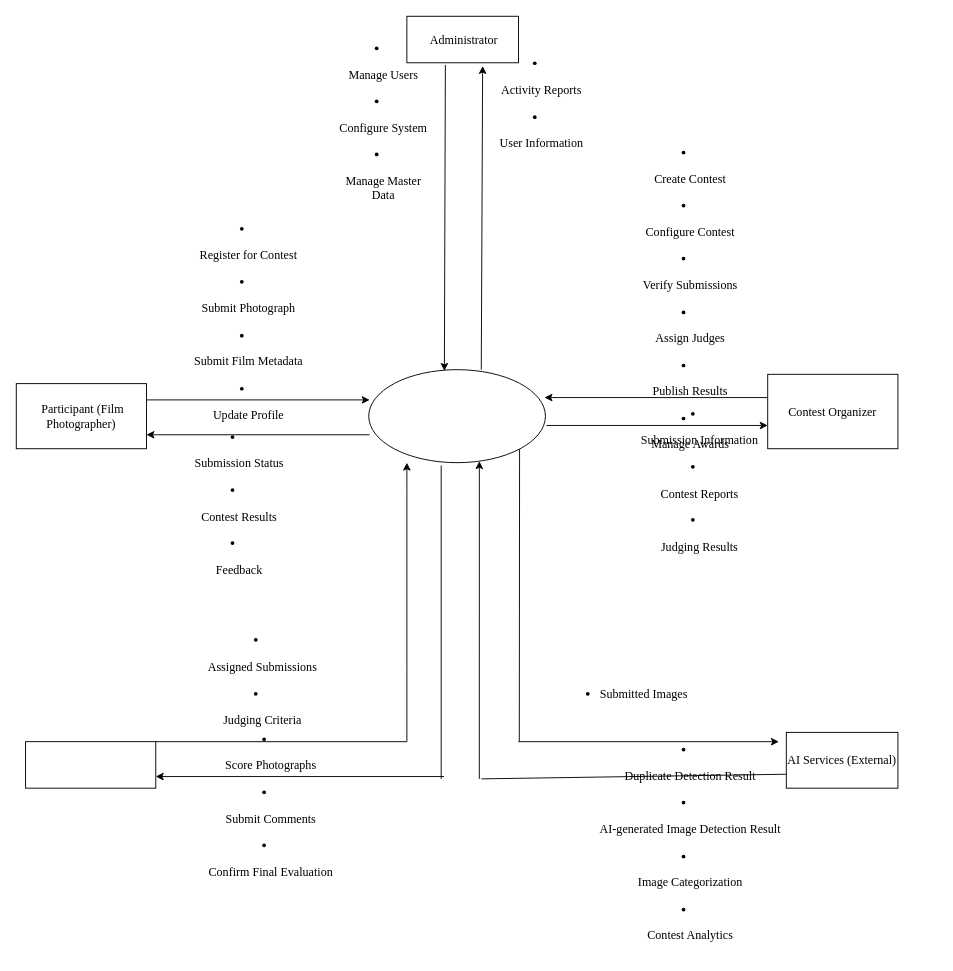
Image size: 953x971. Some labels were removed from this diagram. The shapes that lost their labels are listed below. From the top down, each one's centre as x and y in pixels, then its label:
At point (456, 416): "AI-POWERED FILM PHOTOGRAPHY CONTEST MANAGEMENT PLATFORM (SYSTEM)".
At point (90, 764): "Judge".
